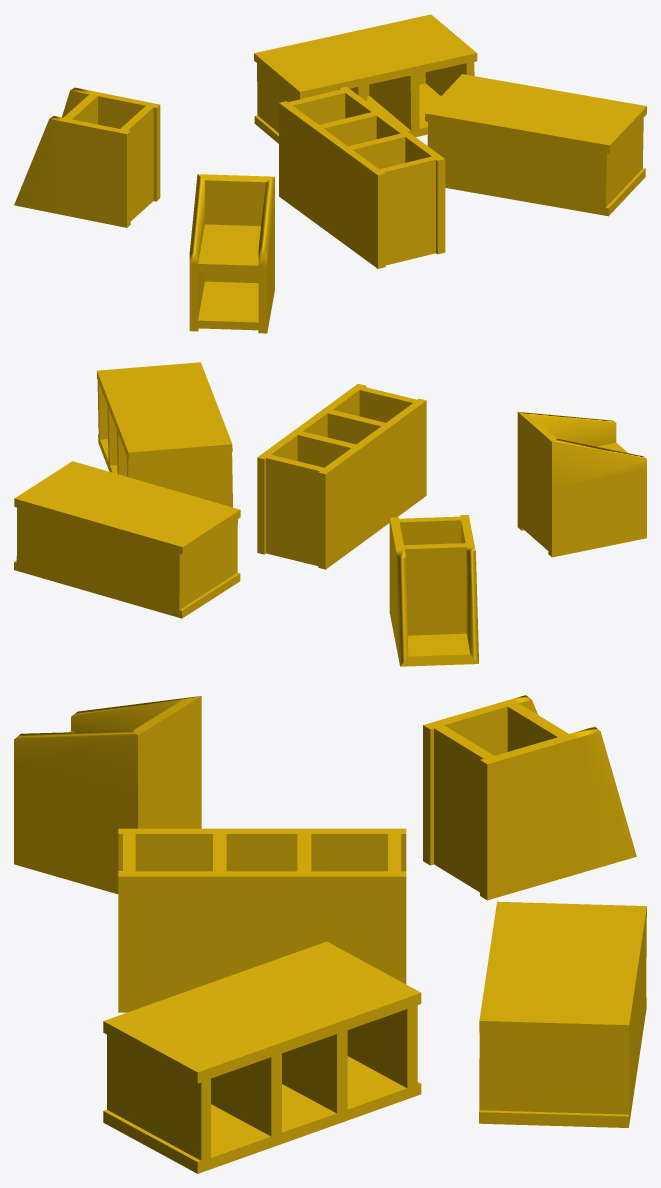
Rendered from Cinderblock_Pile_02_Lod0.fbx.
3 views of the same model, one above another, from view 1: azimuth 30°, elevation 25°; view 2: azimuth 150°, elevation 25°; view 3: azimuth 270°, elevation 25° (orthographic). The views are drawn at different scales.
Visible parts, largest first — view 1: Cinderblock_Pile_02_Lod0; view 2: Cinderblock_Pile_02_Lod0; view 3: Cinderblock_Pile_02_Lod0.
Boxes of the visible parts, box(x1,y1,x2,y2) form: Cinderblock_Pile_02_Lod0: box(14, 14, 646, 333); Cinderblock_Pile_02_Lod0: box(14, 362, 646, 666); Cinderblock_Pile_02_Lod0: box(14, 695, 646, 1173).
Size of the model in its own units: 150 by 32.33 by 113.
